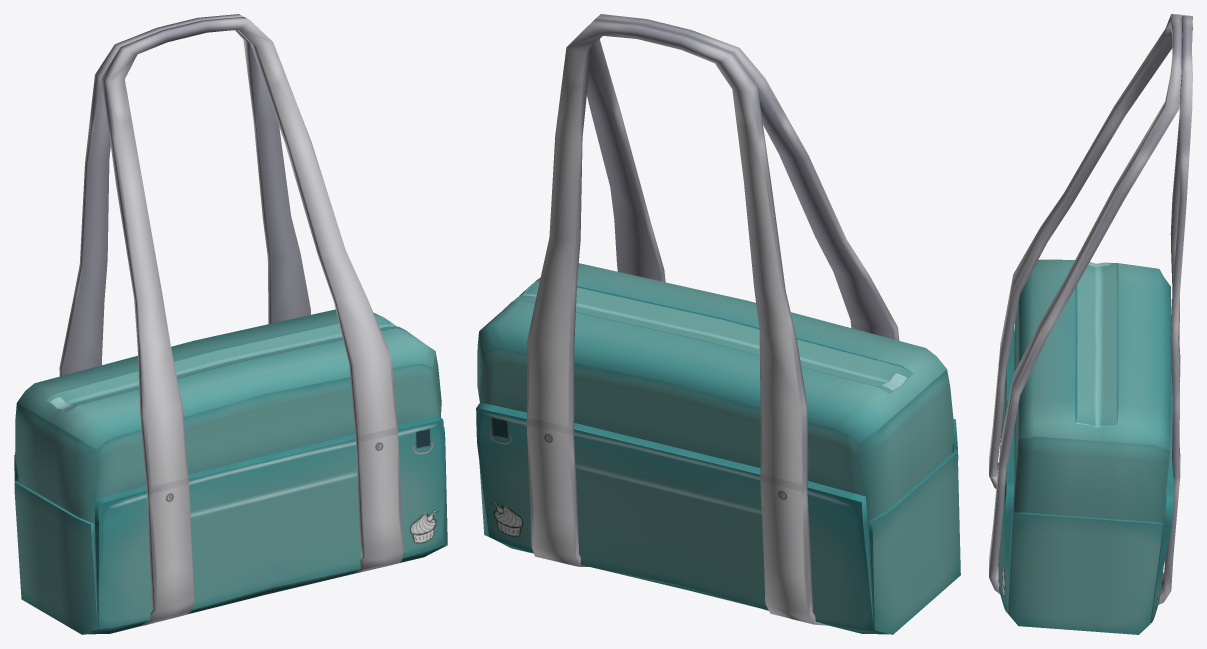
Rendered from AmaiBag 1.fbx.
3 renders of one model, left to right at view 1: azimuth 30°, elevation 25°; view 2: azimuth 150°, elevation 25°; view 3: azimuth 270°, elevation 25°, orthographic. The views are drawn at different scales.
Visible parts, largest first — view 1: BookBag; view 2: BookBag; view 3: BookBag.
Boxes of the visible parts, box(x1,y1,x2,y2) form: BookBag: box(14, 14, 447, 634); BookBag: box(476, 14, 960, 634); BookBag: box(989, 14, 1192, 634).
Size of the model in its own units: 49.09 by 65.82 by 23.68.
